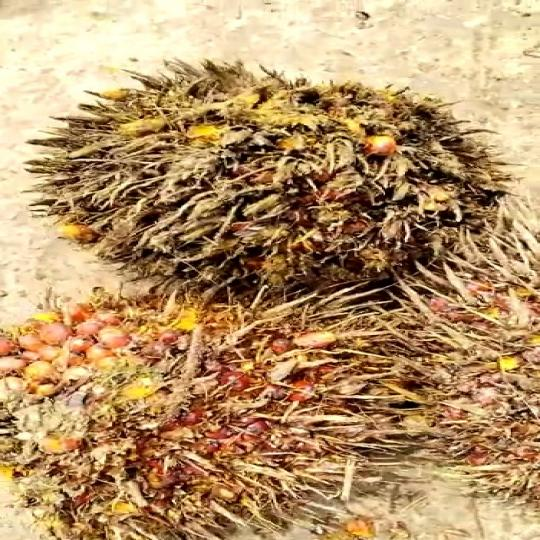terlalu masak: (15, 55, 540, 292), (0, 278, 420, 540)
